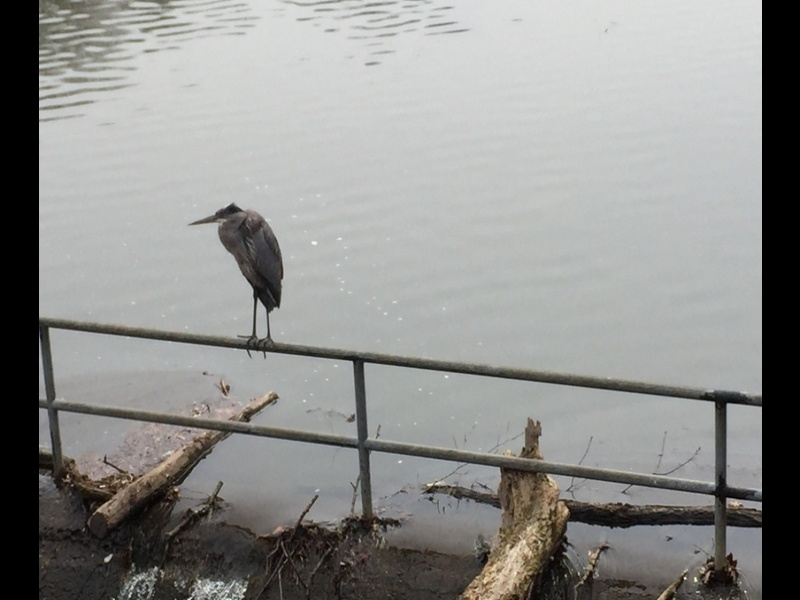heron: (185, 199, 286, 339)
